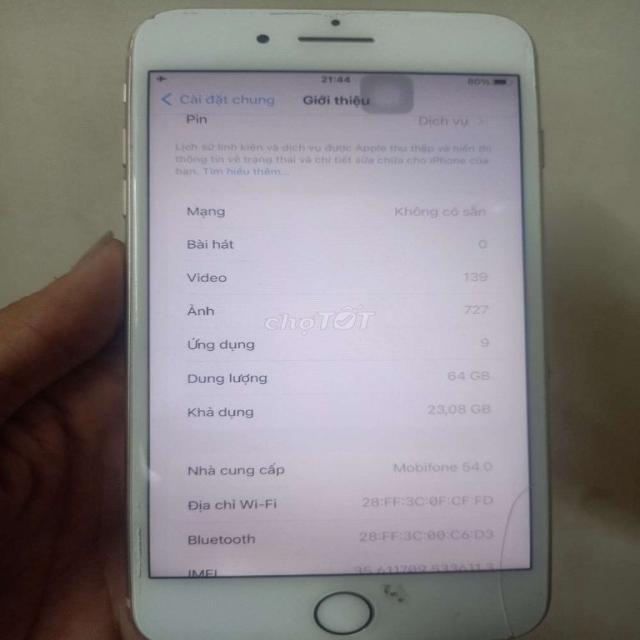physical_damage: (488, 466, 550, 639)
scratch: (178, 6, 448, 19), (125, 492, 148, 596), (505, 17, 547, 72), (378, 577, 416, 607), (140, 9, 162, 20)
